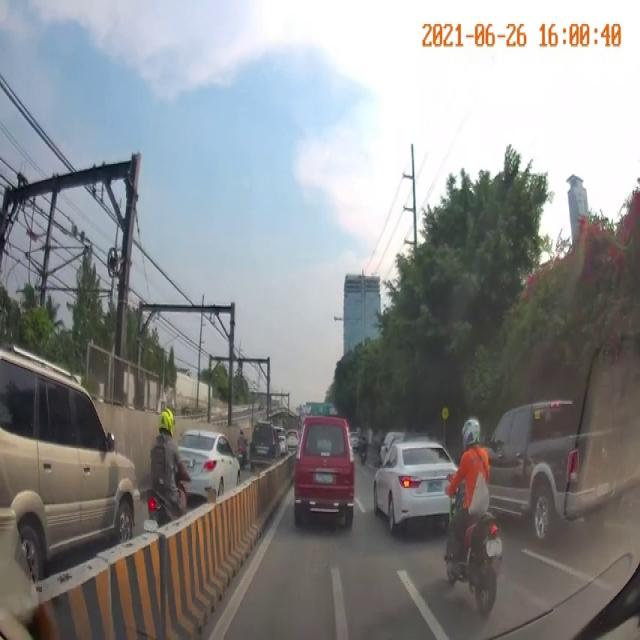car: (0, 345, 139, 547), (482, 394, 626, 546), (373, 430, 449, 550), (297, 405, 362, 543), (176, 431, 241, 497), (251, 425, 283, 471)
motorcycle: (441, 425, 504, 626), (142, 399, 186, 555), (237, 425, 247, 471)
